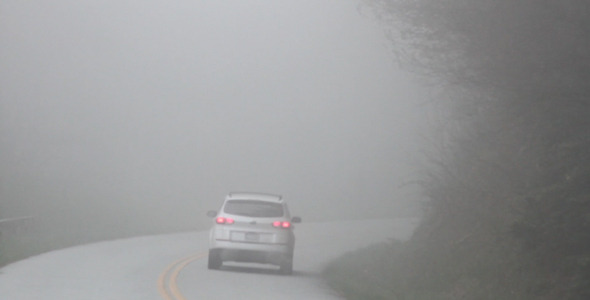car: (206, 193, 296, 274)
